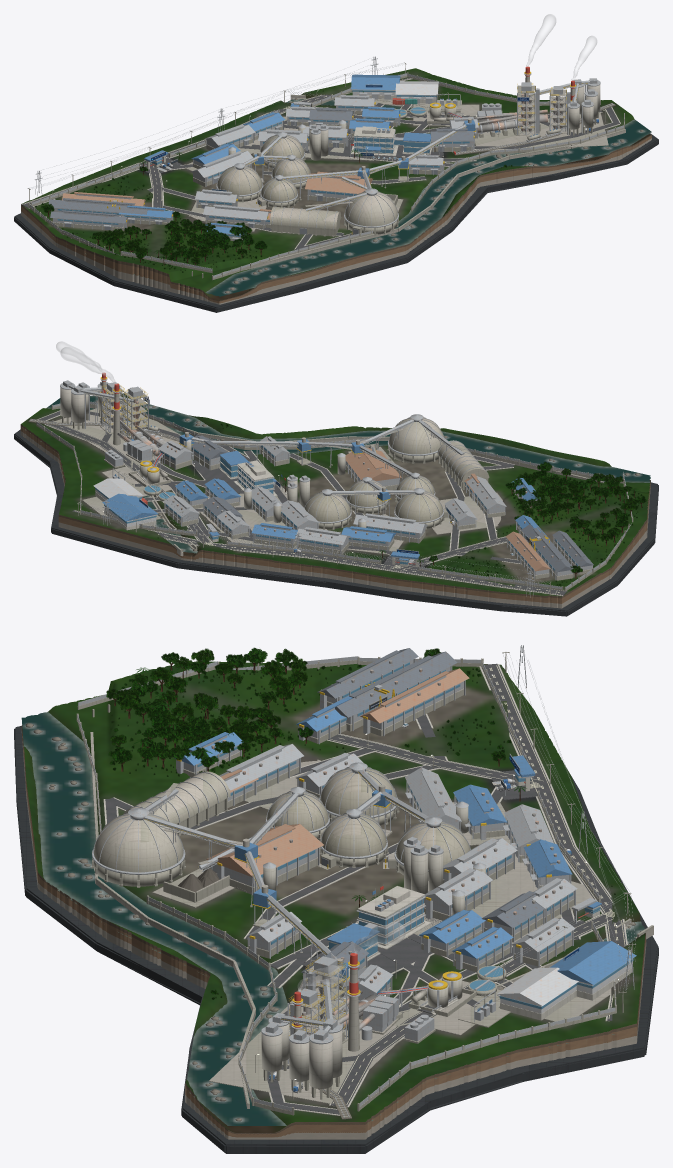
File: indocement_3d_map_full.glb
3 renders of one model, top to bottom at view 1: azimuth 30°, elevation 25°; view 2: azimuth 150°, elevation 25°; view 3: azimuth 270°, elevation 25°, orthographic. The views are drawn at different scales.
Parts seen in each view (by area): view 1: Terrain_Map, Plant_Roofs_Grey, Plant_Concrete_Walls, River_Water, Plant_Steel_Frames, Site_Soil_Cutaway, Site_Base_Plinth, Road_Network, Yard_Concrete_Aprons, Plant_Storage_Domes, Plant_Clinker_Dome_Vault, Plant_Roofs_Blue (+21 smaller); view 2: Terrain_Map, Plant_Roofs_Grey, Plant_Concrete_Walls, Site_Soil_Cutaway, Site_Base_Plinth, Plant_Steel_Frames, Road_Network, River_Water, Yard_Concrete_Aprons, Plant_Storage_Domes, Plant_Roofs_Blue, Plant_Cement_Silos (+19 smaller); view 3: Terrain_Map, Plant_Roofs_Grey, River_Water, Plant_Concrete_Walls, Plant_Steel_Frames, Road_Network, Site_Base_Plinth, Site_Soil_Cutaway, Yard_Concrete_Aprons, Plant_Cement_Silos, Plant_Storage_Domes, Plant_Roofs_Blue (+22 smaller).
Boxes of the visible parts, x1,y1,x2,y2 form: Terrain_Map: (21, 68, 650, 300); Plant_Roofs_Grey: (51, 78, 597, 239); Plant_Concrete_Walls: (28, 72, 624, 280); River_Water: (53, 98, 651, 296); Plant_Steel_Frames: (53, 73, 614, 240); Site_Soil_Cutaway: (21, 73, 651, 304); Site_Base_Plinth: (14, 133, 658, 312); Road_Network: (22, 78, 619, 249); Yard_Concrete_Aprons: (185, 99, 608, 231); Plant_Storage_Domes: (217, 134, 310, 201); Plant_Clinker_Dome_Vault: (270, 191, 397, 229); Plant_Roofs_Blue: (119, 98, 557, 234); Terrain_Map: (21, 393, 650, 596); Plant_Roofs_Grey: (63, 380, 591, 576); Plant_Concrete_Walls: (31, 387, 633, 591); Site_Soil_Cutaway: (20, 416, 650, 608); Site_Base_Plinth: (14, 429, 658, 616); Plant_Steel_Frames: (29, 379, 592, 579); Road_Network: (38, 411, 566, 595); River_Water: (22, 396, 650, 598); Yard_Concrete_Aprons: (54, 401, 502, 554); Plant_Storage_Domes: (304, 475, 442, 521); Plant_Roofs_Blue: (114, 420, 549, 541); Plant_Cement_Silos: (60, 381, 385, 527); Terrain_Map: (21, 661, 645, 1132); Plant_Roofs_Grey: (128, 659, 577, 1041); River_Water: (21, 712, 644, 1125); Plant_Concrete_Walls: (76, 656, 616, 1117); Plant_Steel_Frames: (92, 654, 575, 1117); Road_Network: (105, 663, 626, 1114); Site_Base_Plinth: (14, 726, 658, 1153); Site_Soil_Cutaway: (21, 661, 646, 1139); Yard_Concrete_Aprons: (152, 759, 611, 1103); Plant_Cement_Silos: (243, 784, 485, 1088); Plant_Storage_Domes: (267, 767, 469, 869); Plant_Roofs_Blue: (174, 696, 572, 1037).
Bounding box in the file's own units: 239 × 43.06 × 138.
47 materials, 42 textured.
